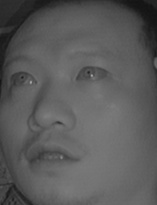eye: (75, 62, 108, 86), (8, 67, 41, 89)
mouth: (21, 134, 86, 173)
